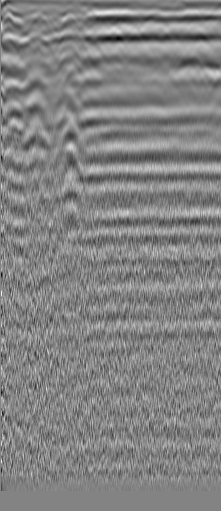오수: (27, 10, 47, 30)
우수: (172, 20, 192, 40)
